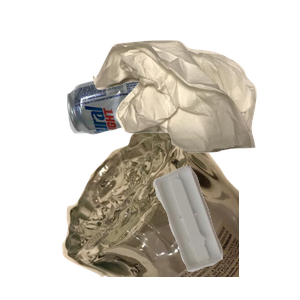glass: (60, 120, 300, 300)
metal: (65, 65, 231, 192)
plastic: (150, 163, 300, 300)
trash: (90, 38, 300, 183)
